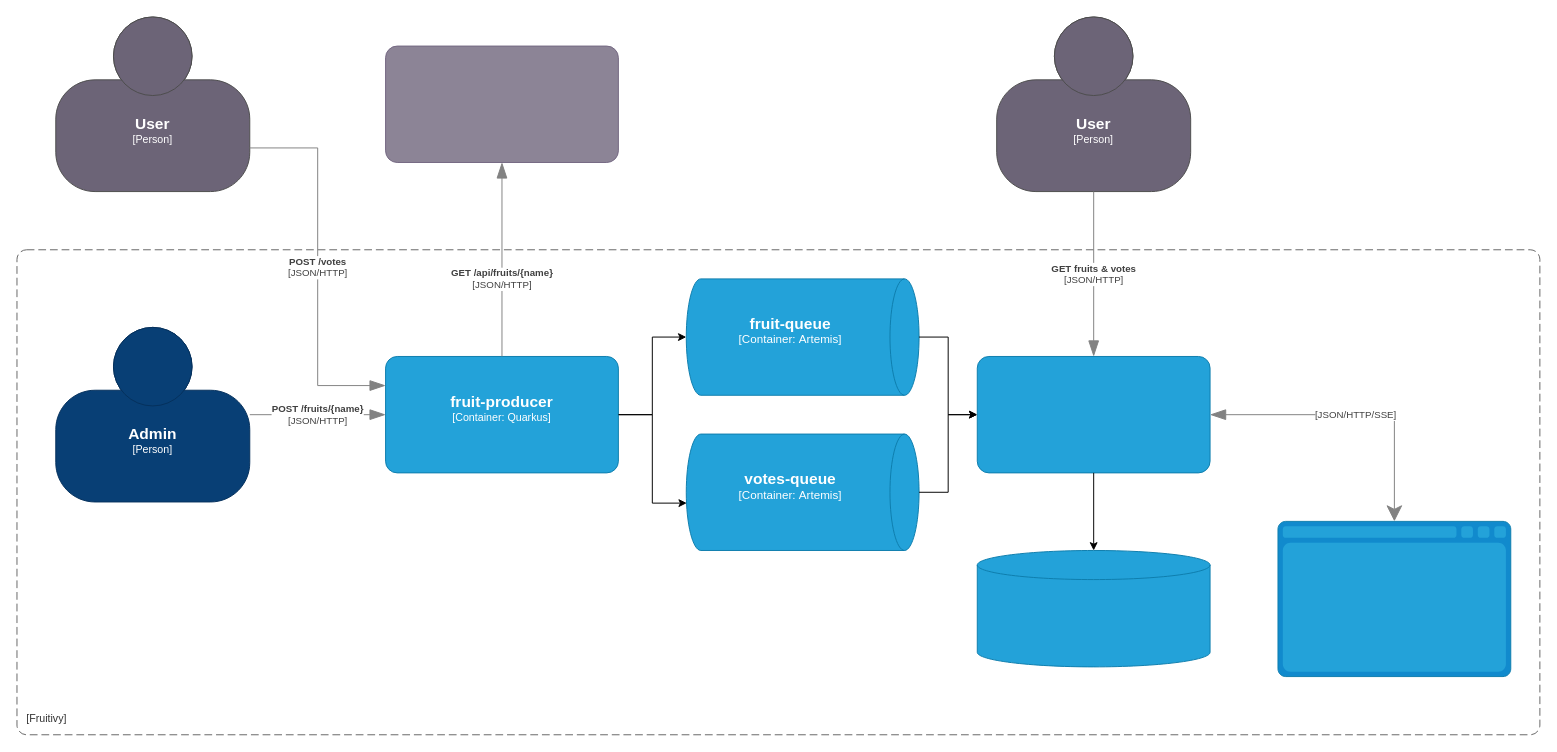
The diagram is 1557 pixels wide and 752 high, and some of its shapes have lost their labels. The centre of each missing label's shape, as x and y in pixels:
Database [Container: PostgreSql] fruit & votes storage: pixel 1093 608
fruit-consumer [Container: Quarkus]: pixel 1093 414
Votes Dashboard [Container: AlpineJS, HTML]: pixel 1394 598
www.fruityvice.com/api/fruit [Software System]: pixel 501 103
